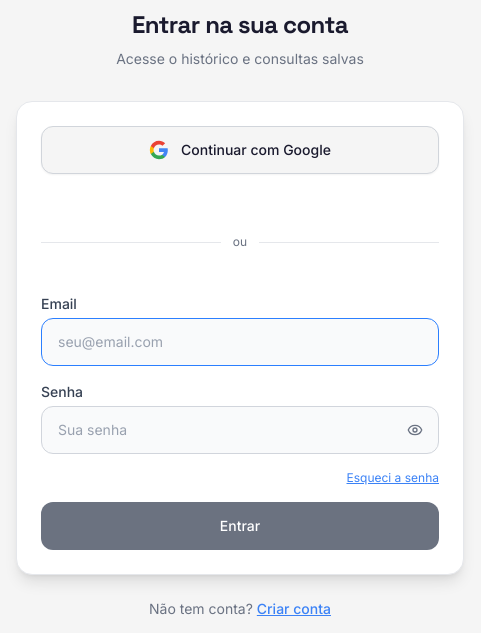
LoginForm › Loading State (Task 7.4) › submit button shows loading/spinner during auth request
Type "test@example.com" into the field labelled "Email" at x=240, y=342, box left=41, top=318, right=439, bottom=366
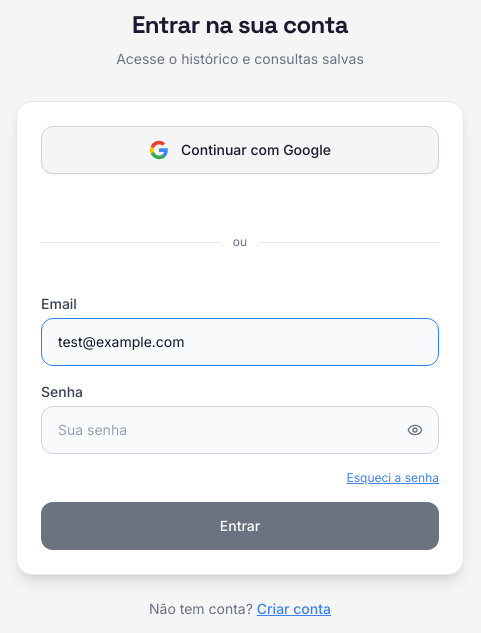
Type "password123" into the password field with id "login-password" at x=240, y=430, box left=41, top=406, right=439, bottom=454
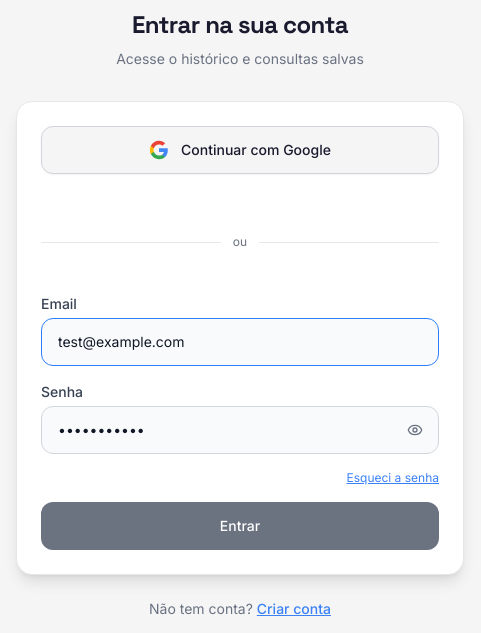
Click the button "Entrar" at x=240, y=526, box left=41, top=502, right=439, bottom=550
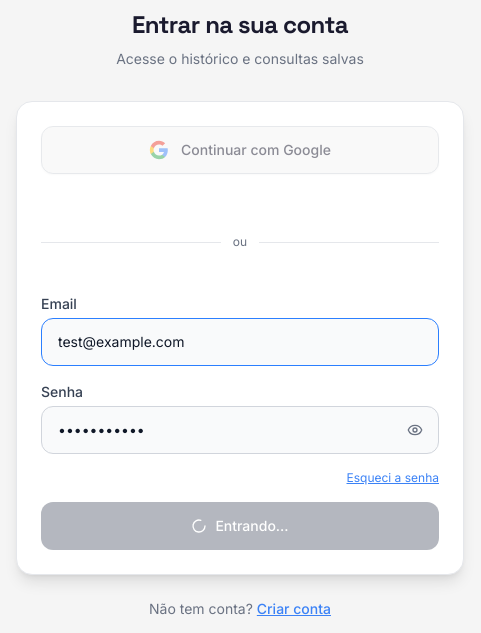
Expected: the button named "entrar" is disabled, left=41, top=502, right=439, bottom=550
